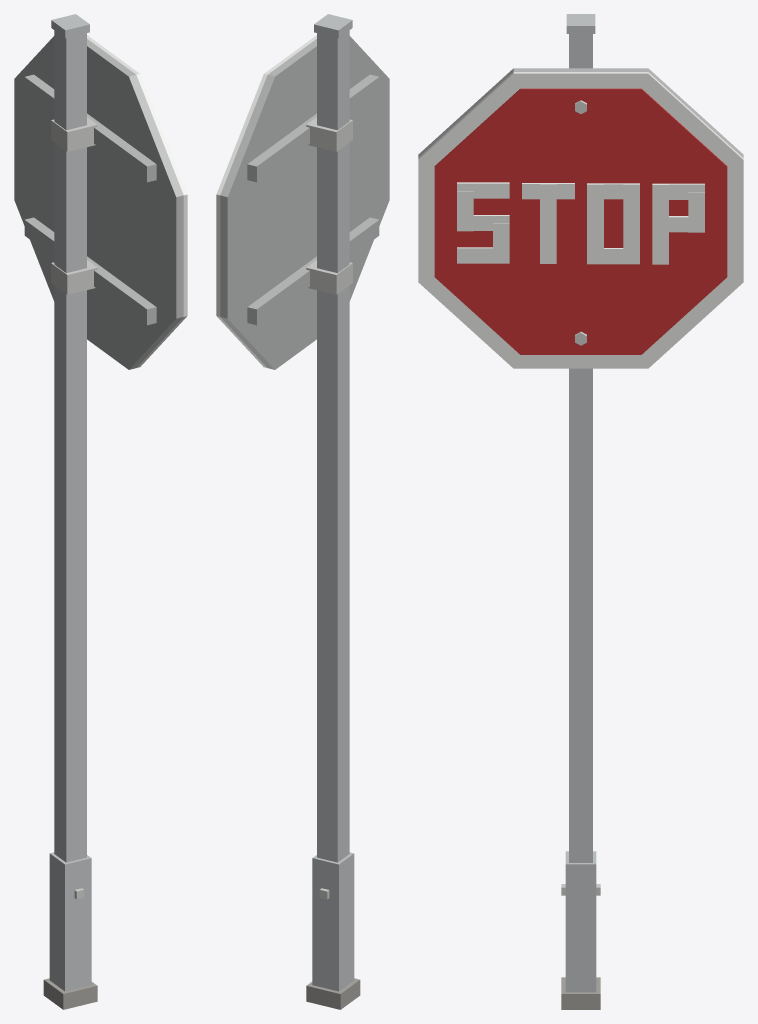
The model's file is stop-sign.glb.
The picture shows the model from 3 angles, left to right: view 1: azimuth 30°, elevation 25°; view 2: azimuth 150°, elevation 25°; view 3: azimuth 270°, elevation 25°; orthographic projection.
Parts seen in each view (by area): view 1: stop-sign; view 2: stop-sign; view 3: stop-sign.
Part boxes in pixels (x1,y1,x2,y2): stop-sign: (14,14,187,1009); stop-sign: (216,14,389,1009); stop-sign: (418,14,743,1009).
Size of the model in its own units: 0.16 by 2.46 by 0.7391.
